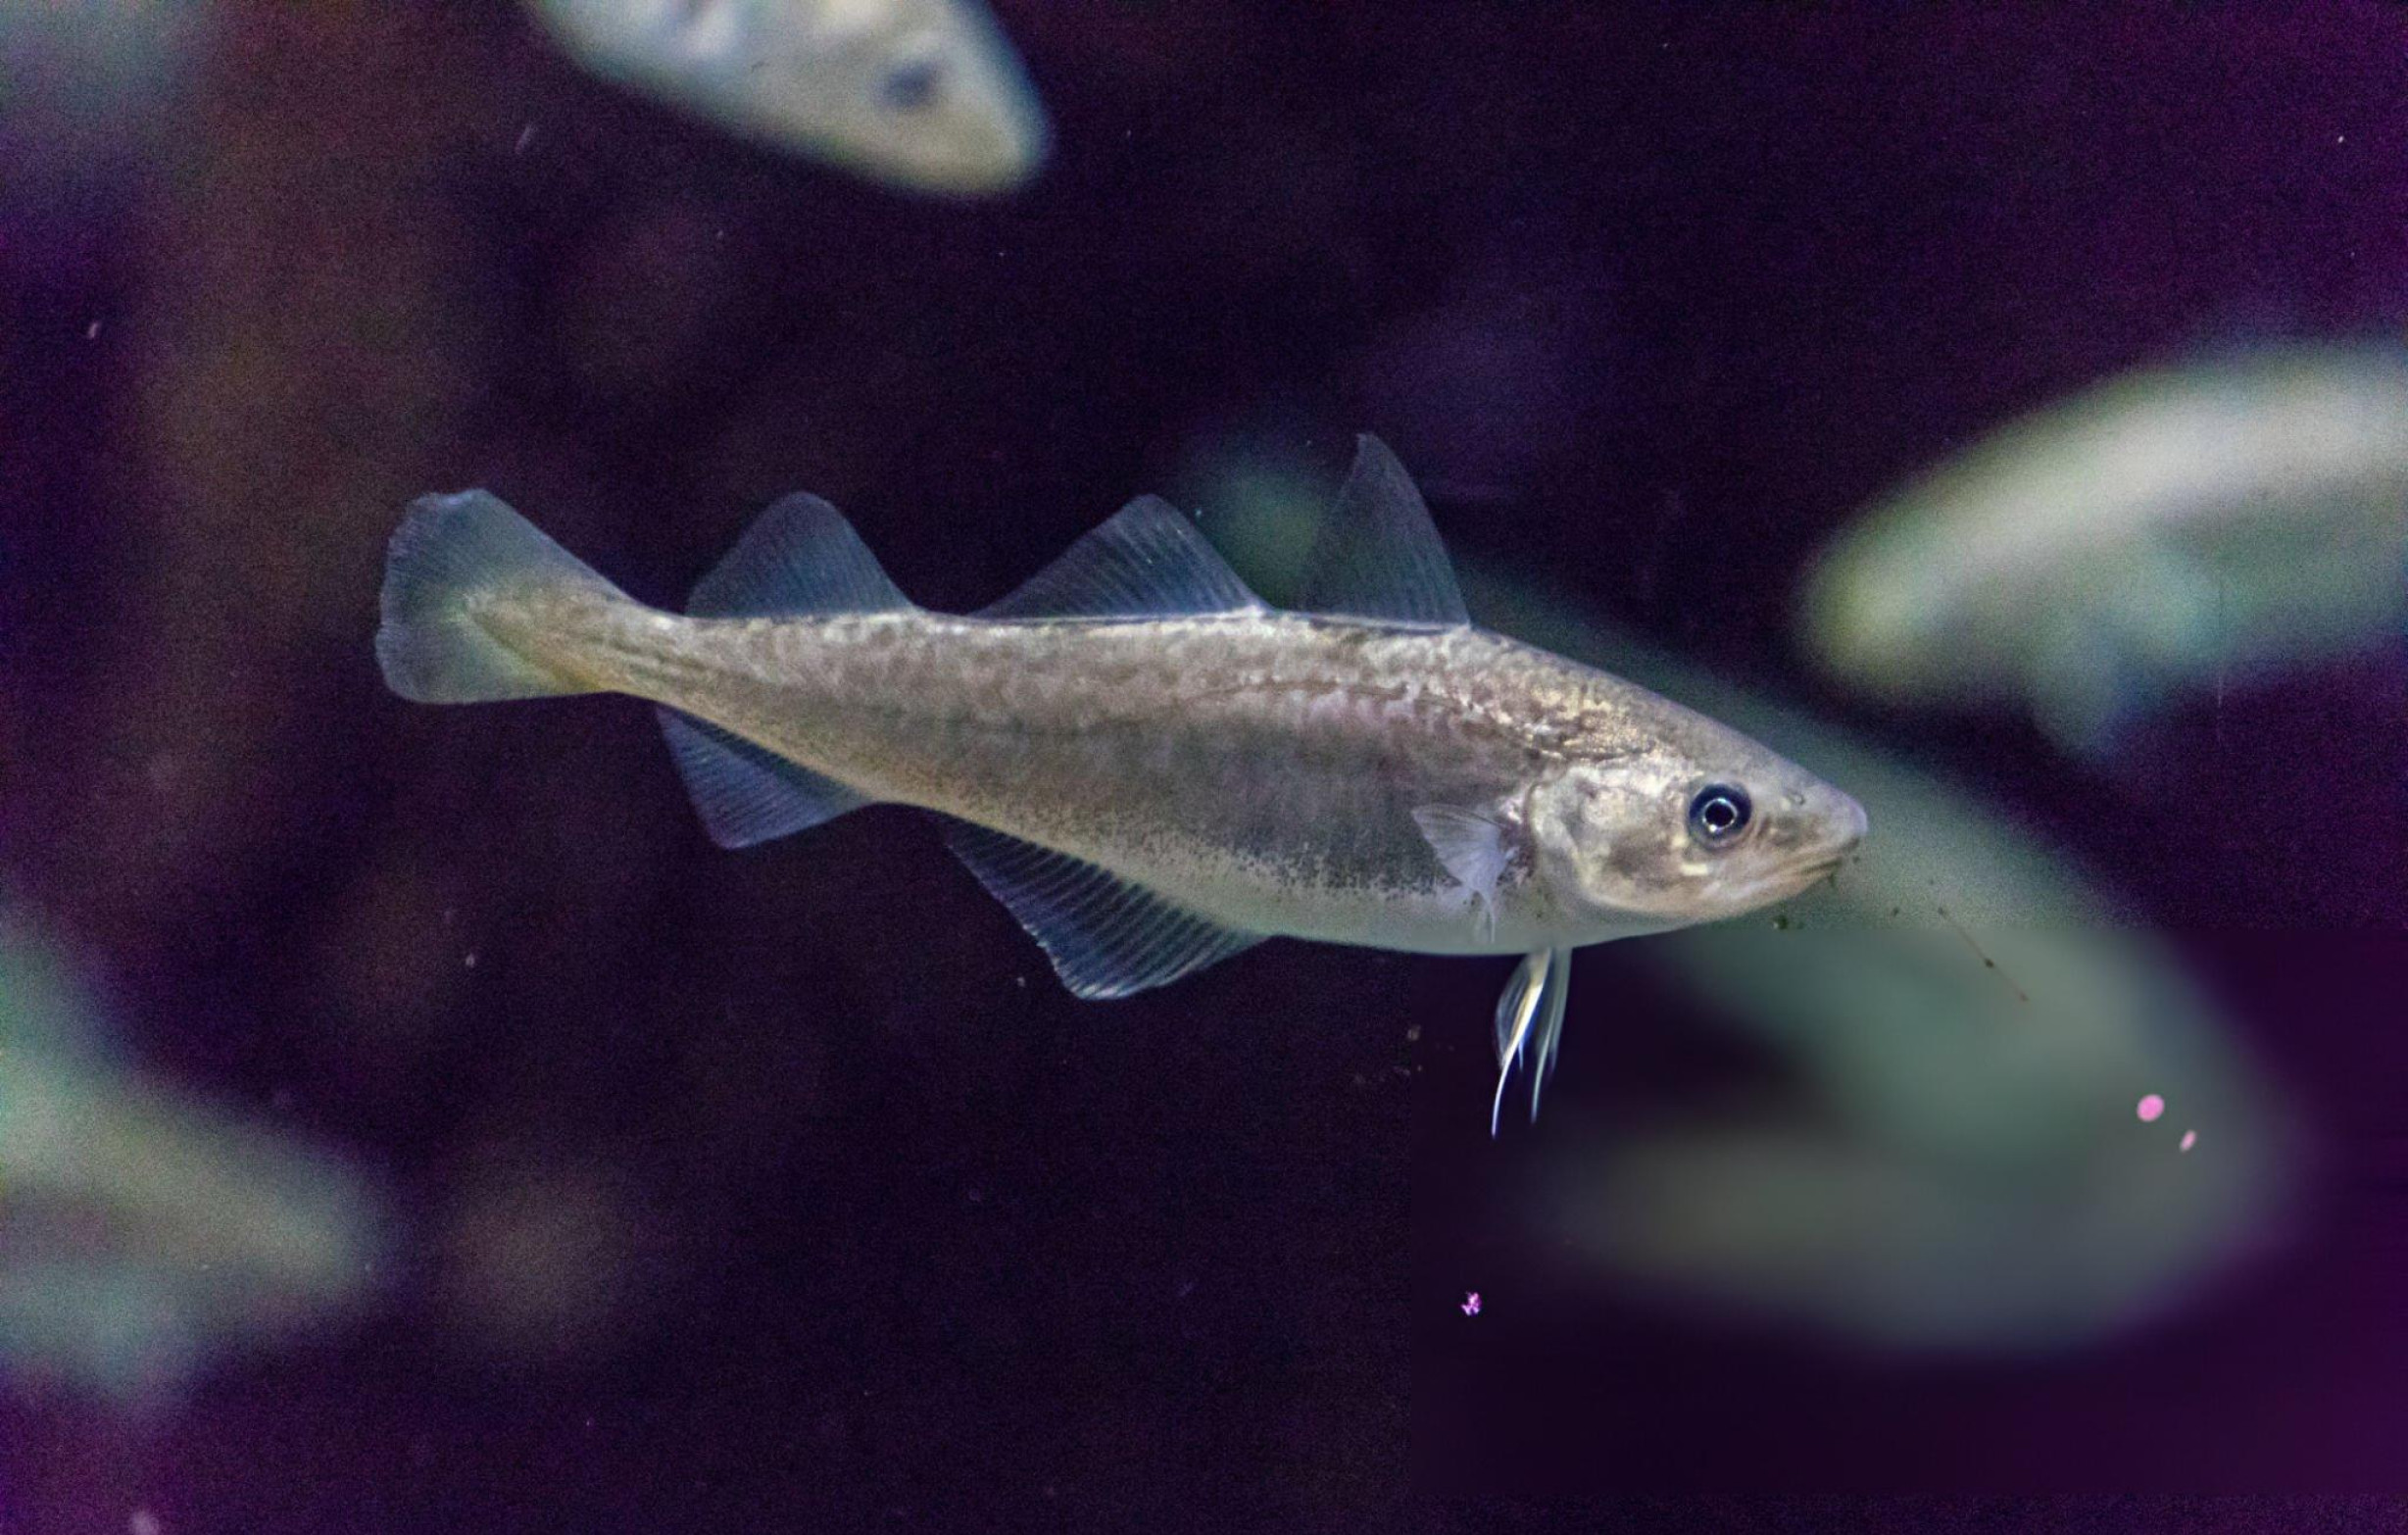Pecific herring: (348, 383, 1871, 1143)
